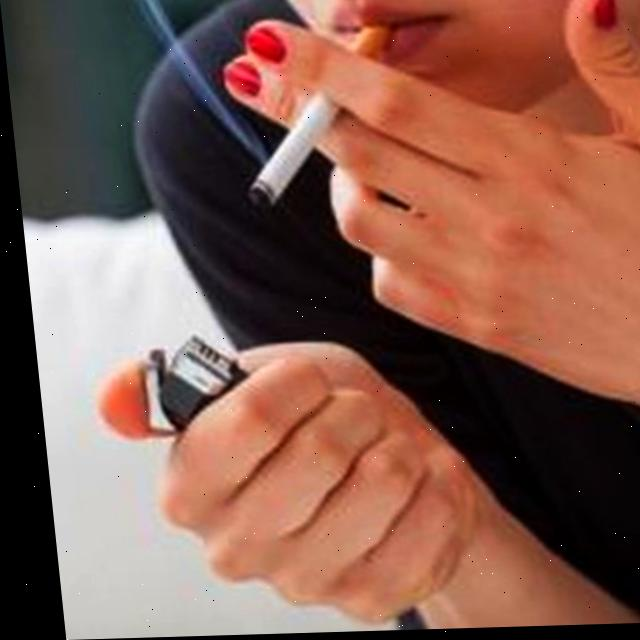cigarette: (231, 29, 404, 211)
